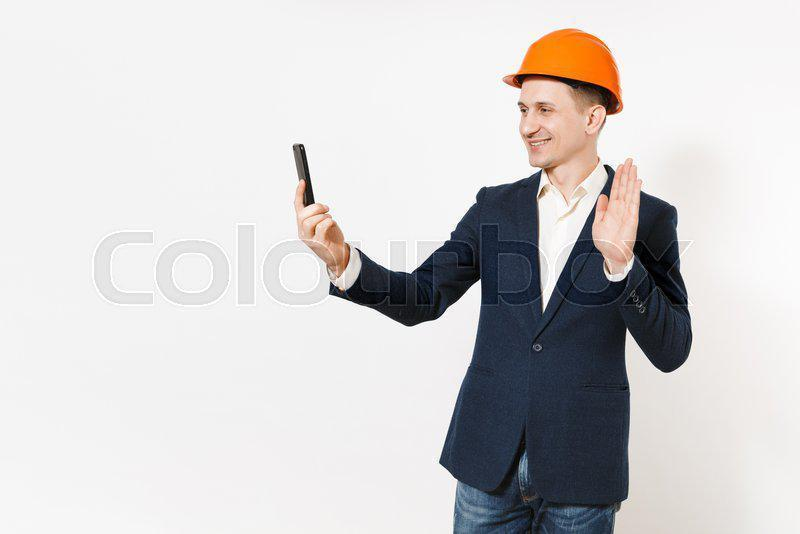helmet: (502, 28, 624, 111)
